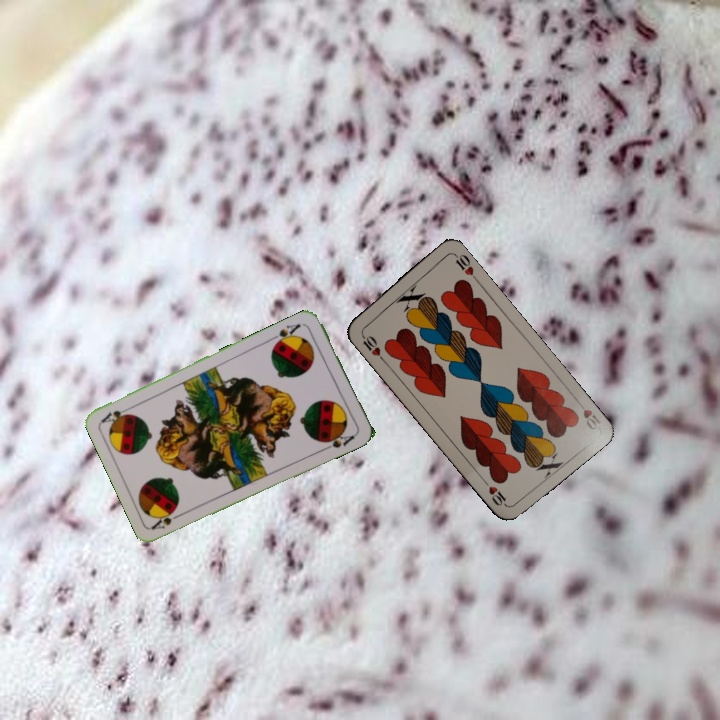H10: (572, 395, 605, 432), (357, 329, 387, 364)
SA: (268, 319, 303, 347), (148, 507, 187, 532)
